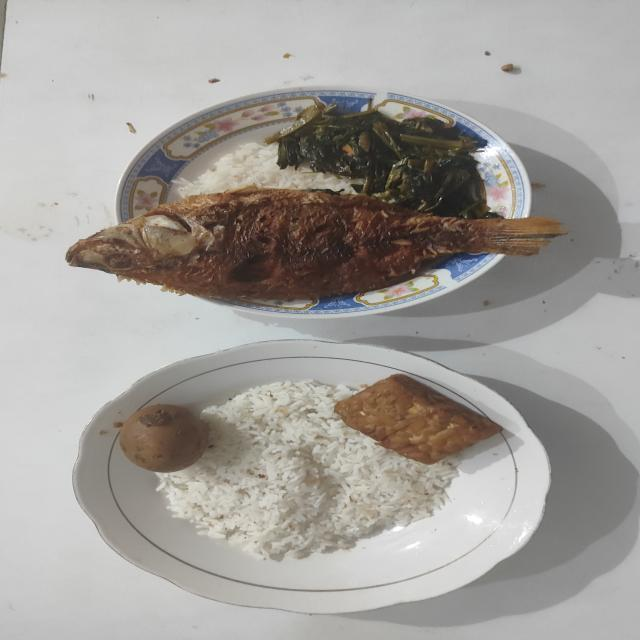ikan_mujair: (66, 187, 565, 300)
nasi_putih: (159, 380, 458, 561), (178, 142, 354, 198)
tempe_goreng: (334, 374, 502, 464)
tumis_kangkung: (268, 103, 499, 219)
